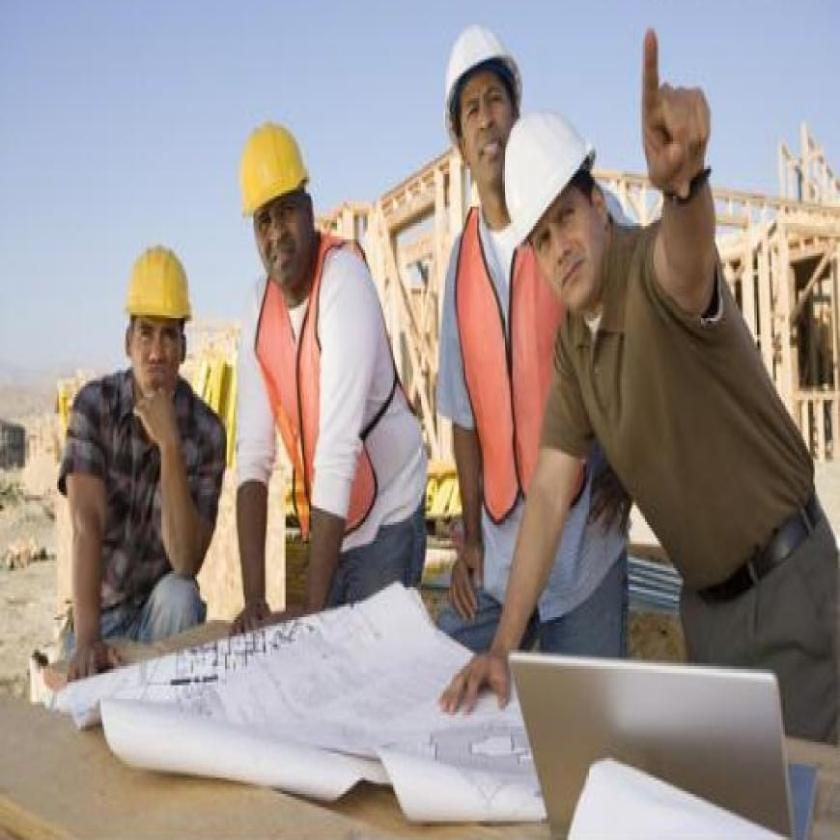Con_casco: (498, 115, 617, 322), (236, 101, 323, 292), (444, 23, 521, 217), (121, 241, 198, 394)
